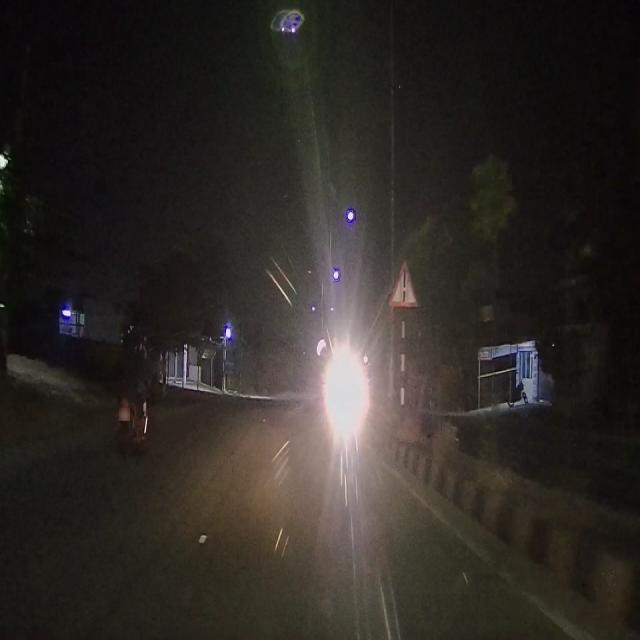gap-in-median: (392, 260, 416, 305)
